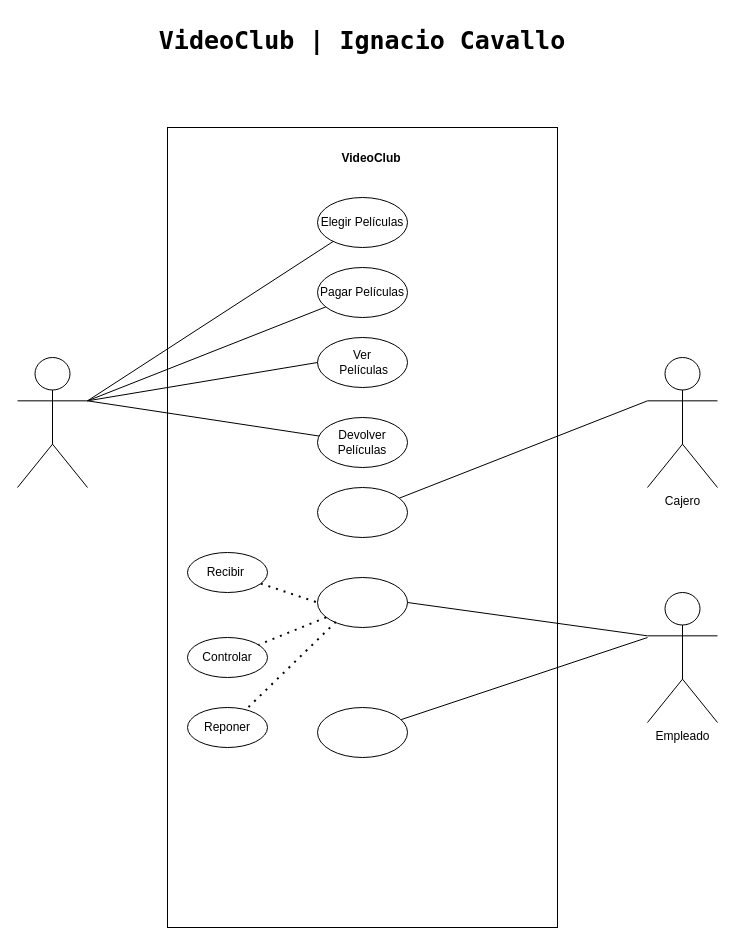
The diagram is 735 pixels wide and 945 high, and some of its shapes have lost their labels. The box of each missing label's shape, as (x1, y1, x2, y2) in pixels:
Cliente: (16, 356, 88, 488)
Cobrar Películas: (316, 486, 408, 538)
Limpieza: (316, 706, 408, 758)
Ordenar Películas: (316, 576, 408, 628)
